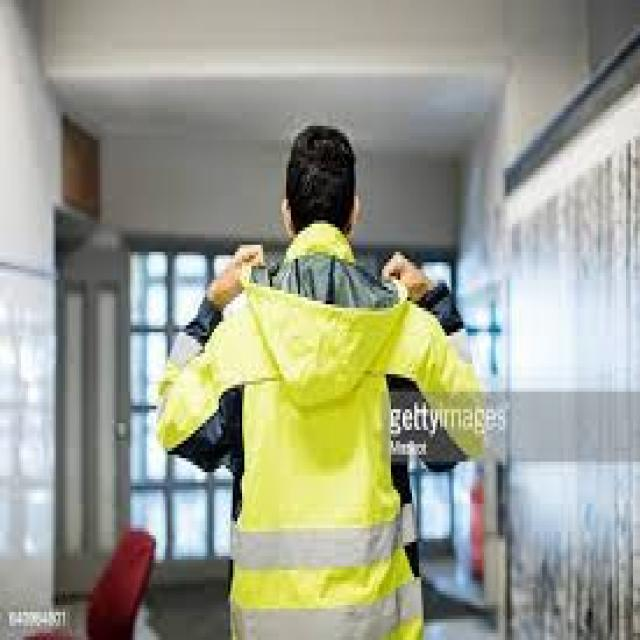Reflective-Jacket: (191, 252, 458, 633)
